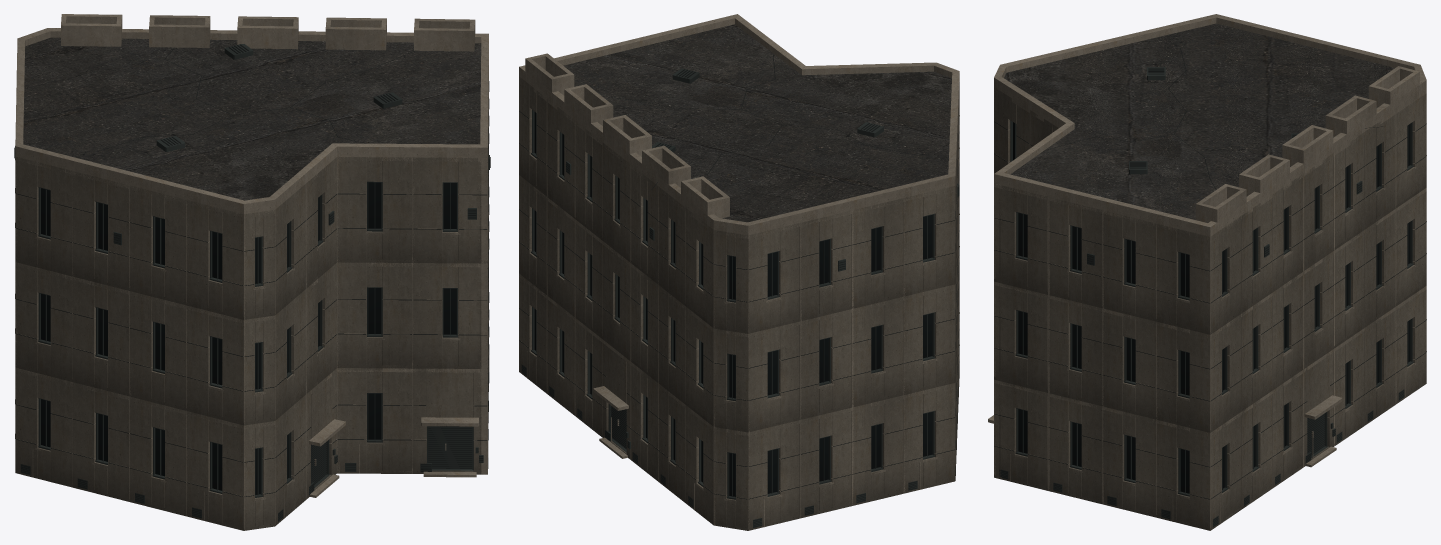
File: fortress_light_a_52.glb
The picture shows the model from 3 angles, left to right: view 1: azimuth 30°, elevation 25°; view 2: azimuth 150°, elevation 25°; view 3: azimuth 270°, elevation 25°; orthographic projection. The views are drawn at different scales.
Visible parts, largest first — view 1: fortress_light_a_52-lod0-roof0, fortress_light_a_52-lod0-base0, fortress_light_a_52-lod0-floor1, fortress_light_a_52-lod0-floor0; view 2: fortress_light_a_52-lod0-roof0, fortress_light_a_52-lod0-base0, fortress_light_a_52-lod0-floor1, fortress_light_a_52-lod0-floor0; view 3: fortress_light_a_52-lod0-roof0, fortress_light_a_52-lod0-floor1, fortress_light_a_52-lod0-base0, fortress_light_a_52-lod0-floor0.
Boxes of the visible parts, left/top/right/bottom form: fortress_light_a_52-lod0-roof0: left=15, top=14, right=488, bottom=214; fortress_light_a_52-lod0-base0: left=15, top=286, right=489, bottom=530; fortress_light_a_52-lod0-floor1: left=14, top=75, right=490, bottom=319; fortress_light_a_52-lod0-floor0: left=15, top=181, right=489, bottom=425; fortress_light_a_52-lod0-roof0: left=519, top=14, right=959, bottom=235; fortress_light_a_52-lod0-base0: left=519, top=273, right=959, bottom=530; fortress_light_a_52-lod0-floor1: left=519, top=76, right=959, bottom=333; fortress_light_a_52-lod0-floor0: left=519, top=175, right=959, bottom=432; fortress_light_a_52-lod0-roof0: left=994, top=14, right=1426, bottom=236; fortress_light_a_52-lod0-floor1: left=994, top=87, right=1426, bottom=334; fortress_light_a_52-lod0-base0: left=988, top=286, right=1426, bottom=530; fortress_light_a_52-lod0-floor0: left=994, top=188, right=1426, bottom=432.
Size of what is drawn, in the model's own units: 84 by 58.15 by 73.02.
Materials: 5 (2 with a texture image).
